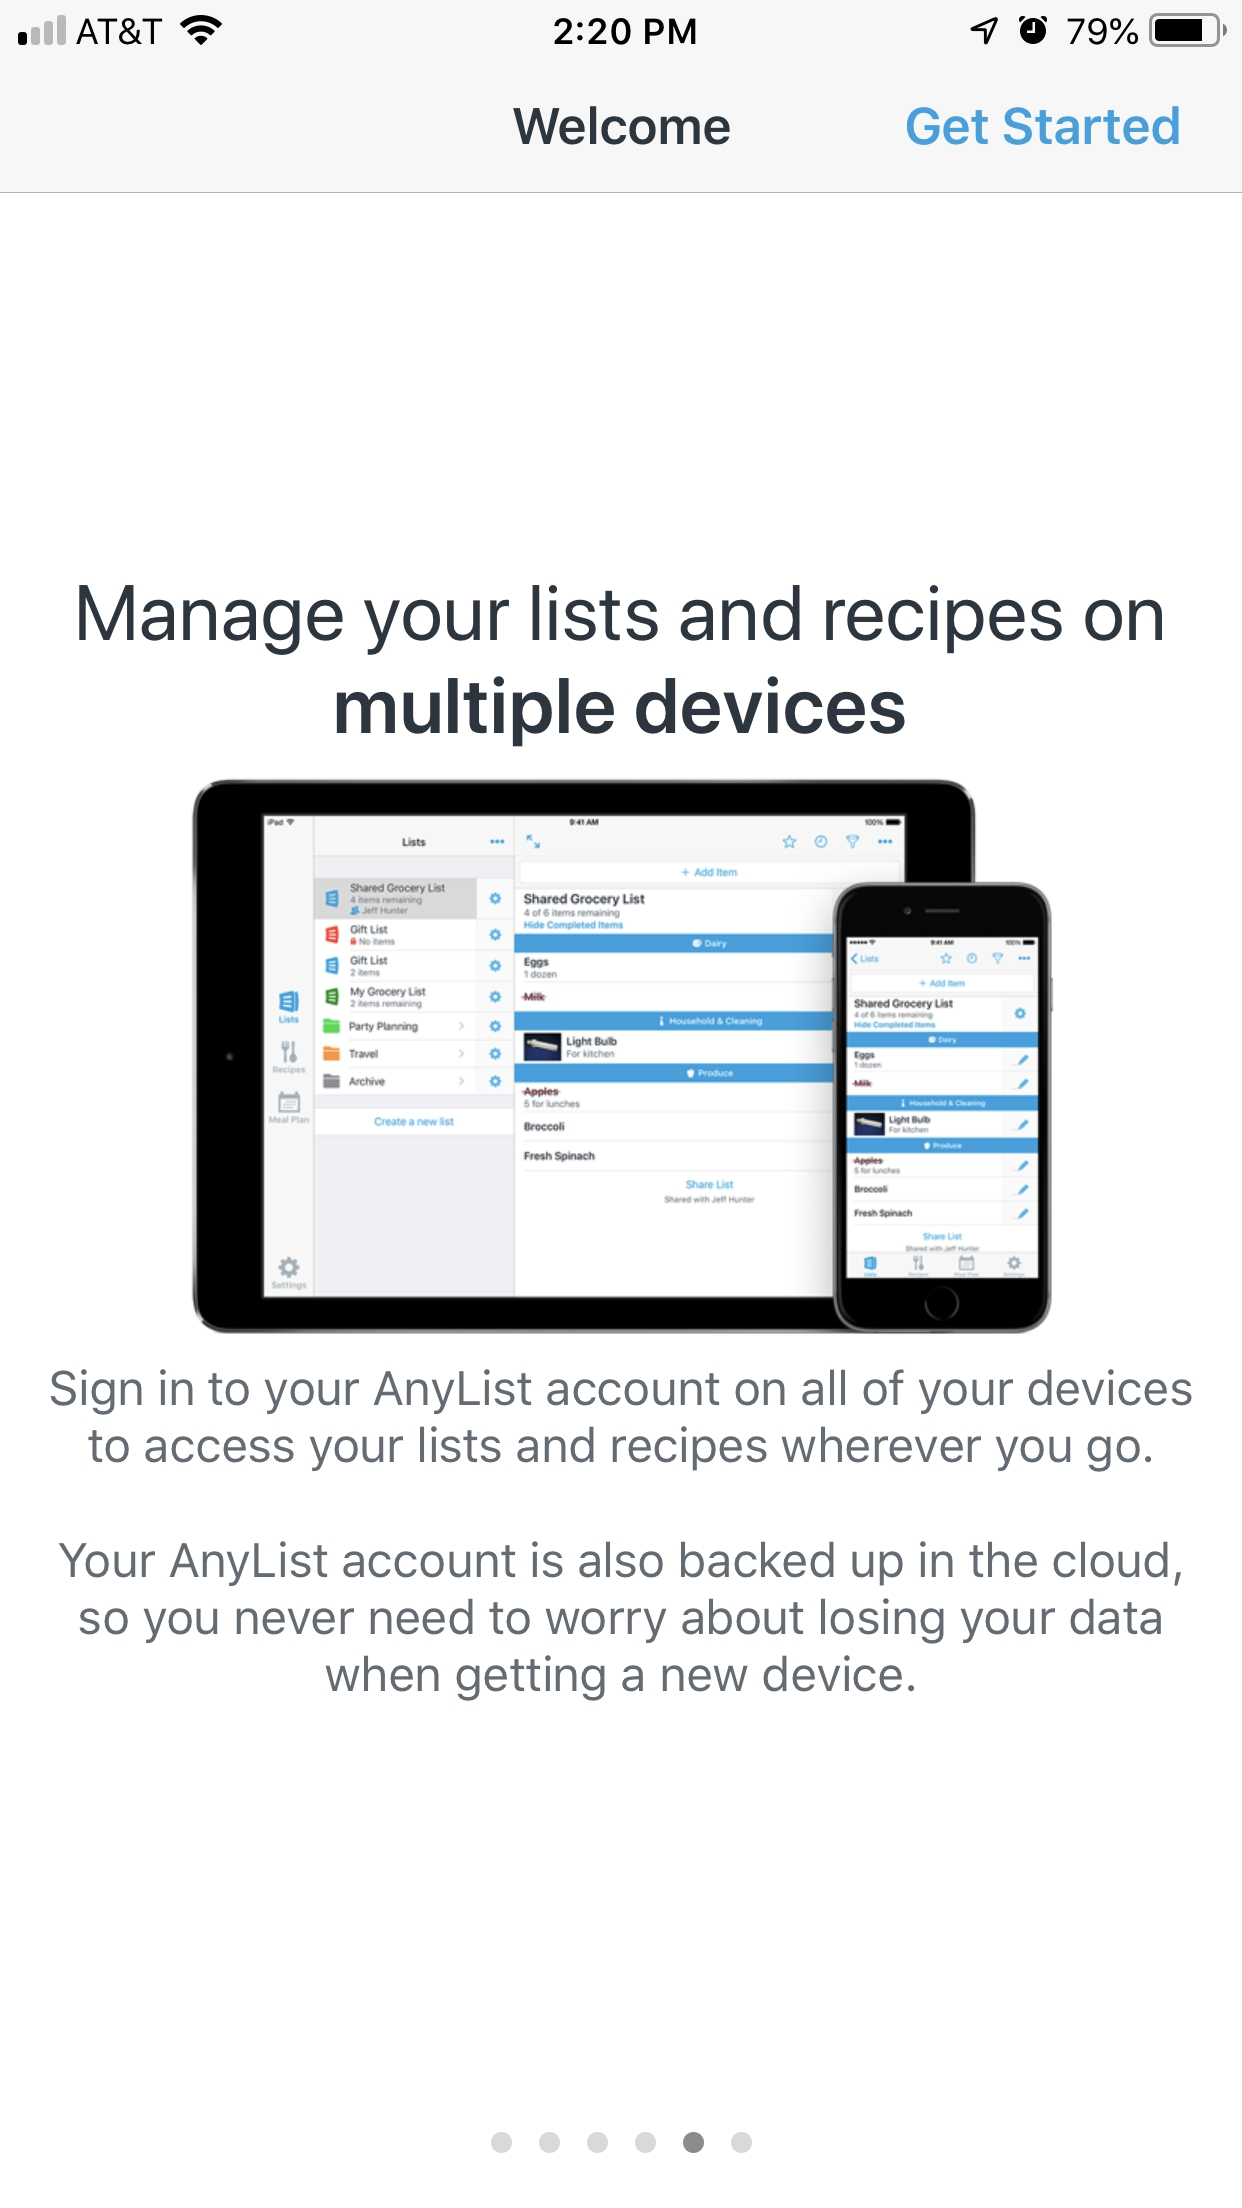Image: (193, 779, 1055, 1335)
PageIndicator: (490, 2131, 754, 2153)
Text: (59, 1541, 1181, 1701), (79, 584, 1163, 748), (50, 1368, 1193, 1473), (907, 106, 1180, 147), (513, 106, 731, 146)
UpperTaskBar: (2, 2, 1242, 49)
